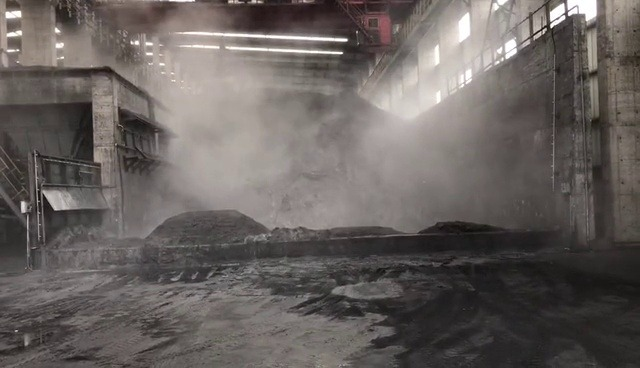dust: (112, 8, 529, 230)
